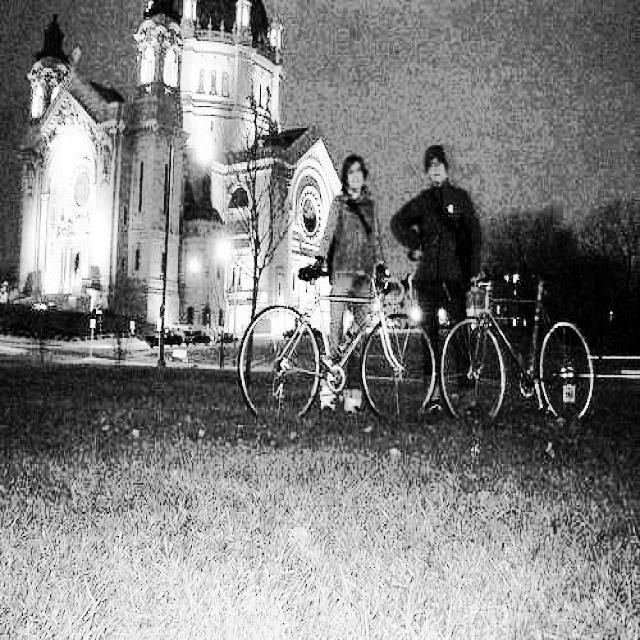Bicycle: (202, 285, 453, 443), (420, 304, 640, 406)
Person: (416, 139, 464, 365), (336, 153, 377, 389)
